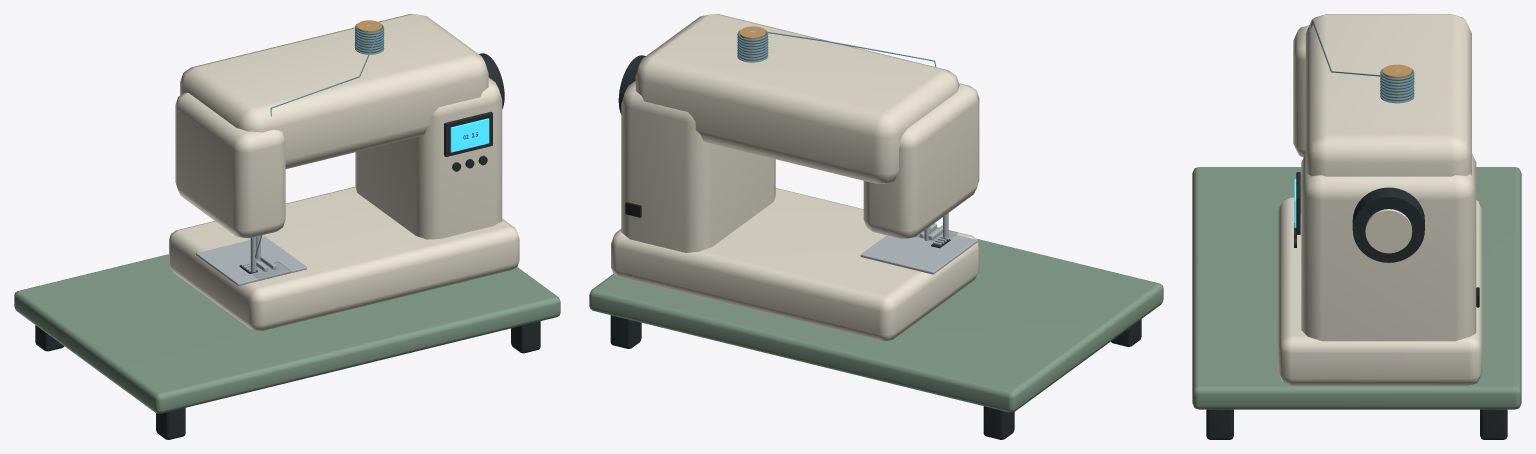
The model's file is desktop-sewing-machine.glb.
The picture shows the model from 3 angles, left to right: view 1: azimuth 30°, elevation 25°; view 2: azimuth 150°, elevation 25°; view 3: azimuth 270°, elevation 25°; orthographic projection. The views are drawn at different scales.
Visible parts, largest first — view 1: desktop-sewing-machine authored assembly; view 2: desktop-sewing-machine authored assembly; view 3: desktop-sewing-machine authored assembly.
Part boxes in pixels (x1,y1,x2,y2): desktop-sewing-machine authored assembly: [14, 14, 560, 439]; desktop-sewing-machine authored assembly: [589, 14, 1163, 439]; desktop-sewing-machine authored assembly: [1192, 14, 1521, 439].
Bounding box in the file's own units: 0.52 × 0.335 × 0.31.
